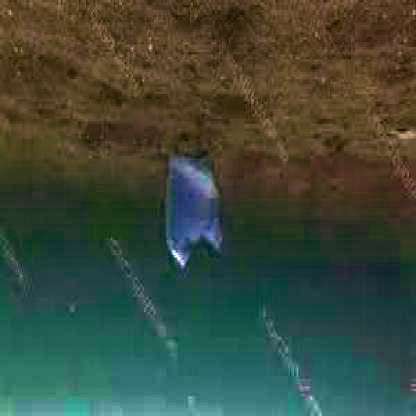pbag: (165, 146, 223, 275)
